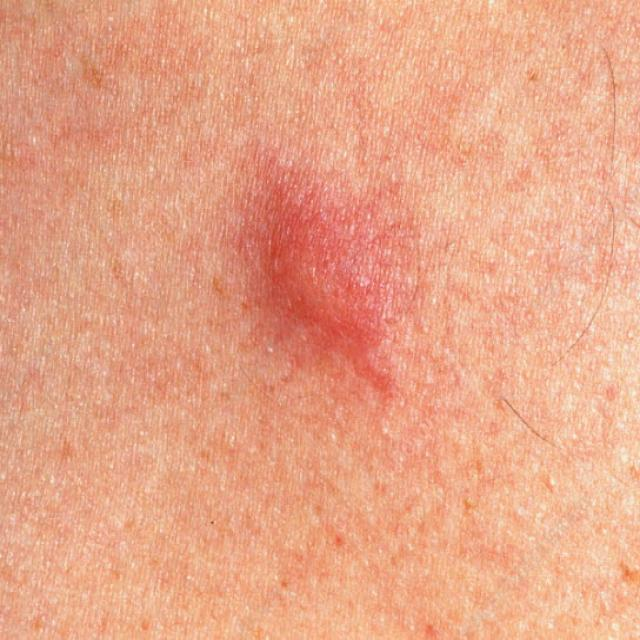sinek: (184, 152, 462, 432)
